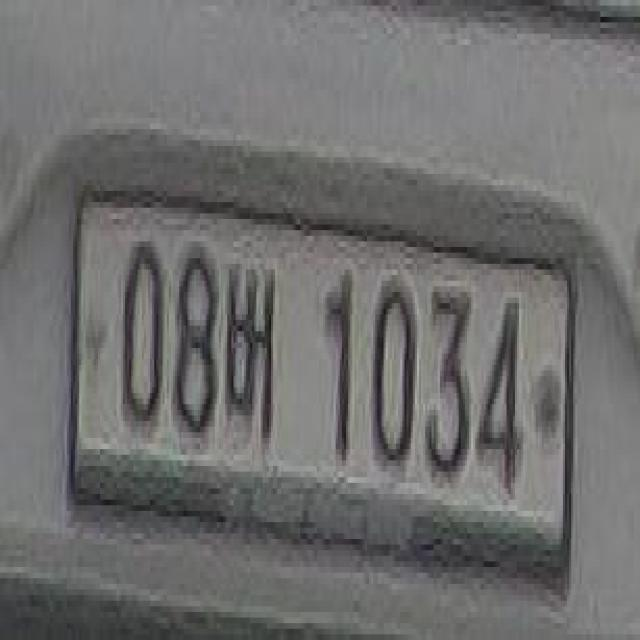illegal_plate: (73, 191, 580, 592)
